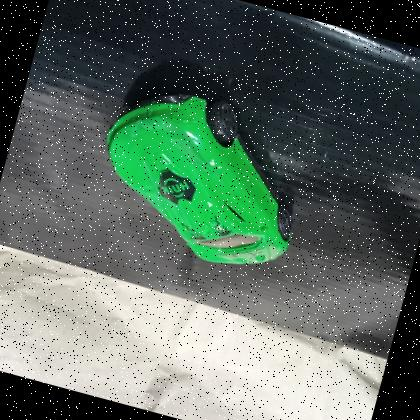Car: (77, 64, 330, 290)
